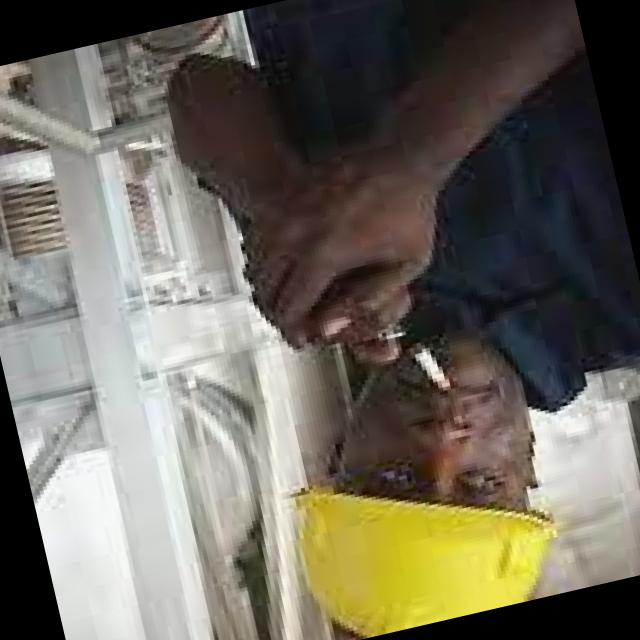cigarette: (395, 328, 460, 408)
